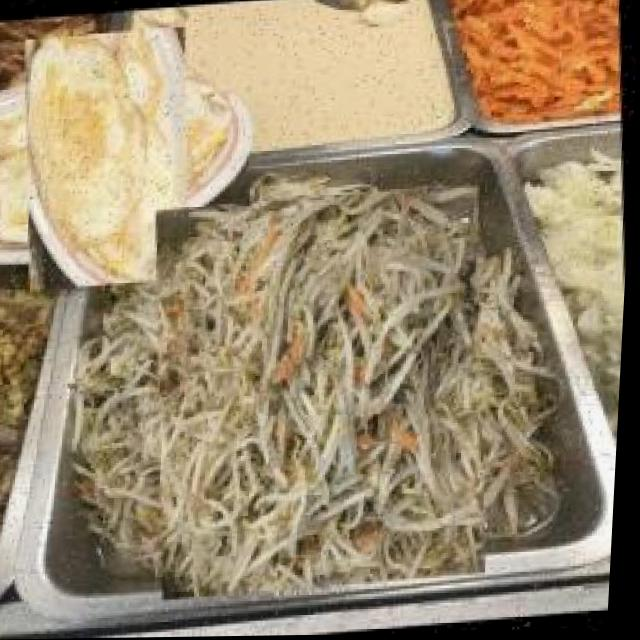carrot_eggs: (483, 0, 628, 119)
fried_eggs: (0, 47, 223, 270)
mung_bean_sprouts: (126, 199, 525, 583)
